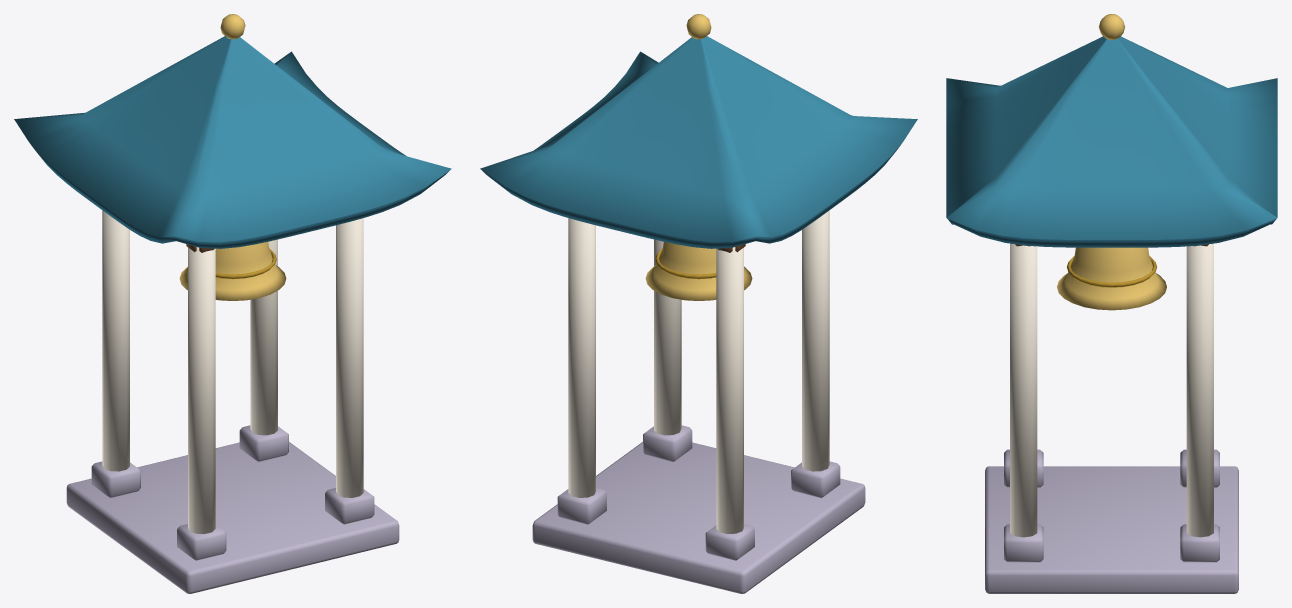
Rendered from bell_tower.glb.
3 renders of one model, left to right at view 1: azimuth 30°, elevation 25°; view 2: azimuth 150°, elevation 25°; view 3: azimuth 270°, elevation 25°, orthographic. The views are drawn at different scales.
Parts seen in each view (by area): view 1: bell_tower:mesh, bell_tower:bell.mesh; view 2: bell_tower:mesh, bell_tower:bell.mesh; view 3: bell_tower:mesh, bell_tower:bell.mesh.
Boxes of the visible parts, box(x1,y1,x2,y2) form: bell_tower:mesh: box(14, 14, 451, 593); bell_tower:bell.mesh: box(179, 242, 286, 300); bell_tower:mesh: box(480, 14, 917, 593); bell_tower:bell.mesh: box(645, 242, 752, 300); bell_tower:mesh: box(946, 14, 1277, 593); bell_tower:bell.mesh: box(1057, 247, 1166, 310).
Size of the model in its own units: 3 by 5.27 by 3.
